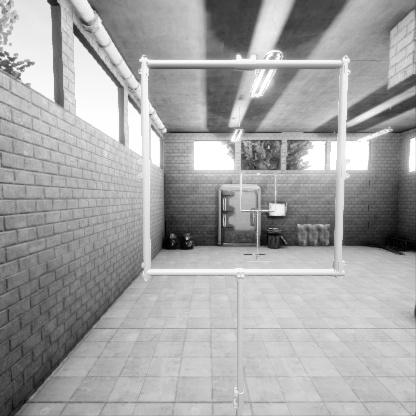gate: (146, 151, 355, 357), (240, 205, 278, 244)
